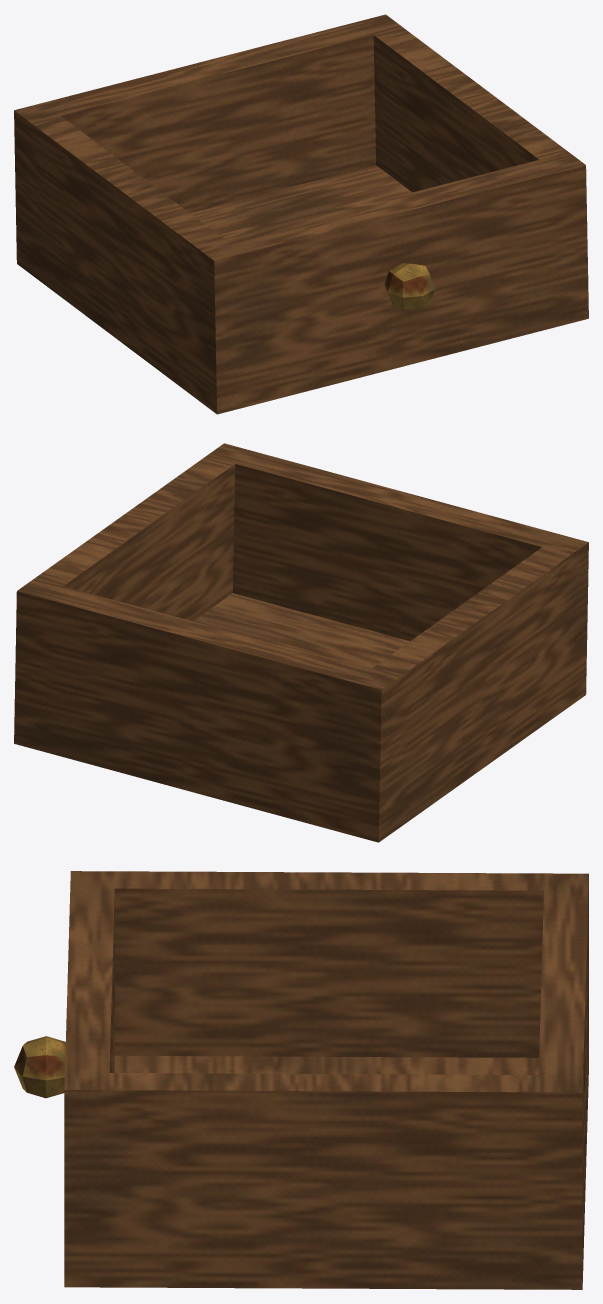
File: NightStandDrawIsolated.fbx
3 renders of one model, top to bottom at view 1: azimuth 30°, elevation 25°; view 2: azimuth 150°, elevation 25°; view 3: azimuth 270°, elevation 25°, orthographic. The views are drawn at different scales.
Parts seen in each view (by area): view 1: NightStandDrawIsolated.001, NightStandDrawIsolated; view 2: NightStandDrawIsolated.001; view 3: NightStandDrawIsolated.001, NightStandDrawIsolated.
Part boxes in pixels (x1,y1,x2,y2): NightStandDrawIsolated.001: (14, 14, 588, 414); NightStandDrawIsolated: (384, 263, 434, 310); NightStandDrawIsolated.001: (14, 443, 588, 842); NightStandDrawIsolated.001: (64, 871, 588, 1289); NightStandDrawIsolated: (14, 1036, 65, 1098).
Bounding box in the file's own units: 0.5251 × 0.2158 × 0.5482.
2 materials, 2 textured.
